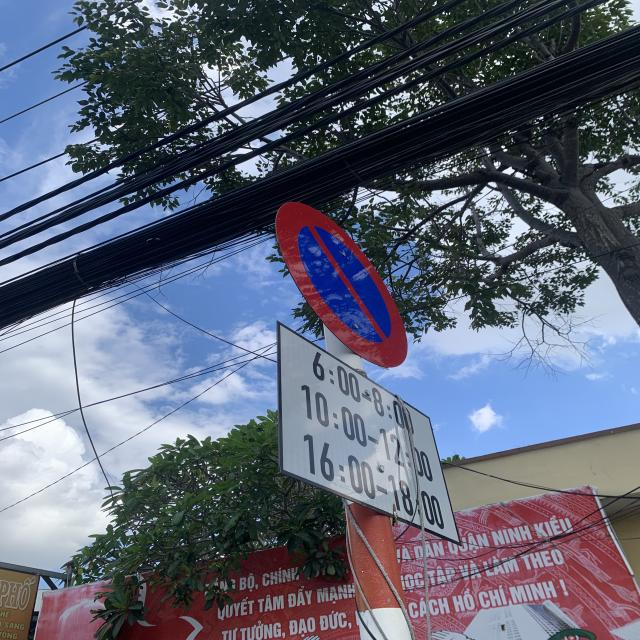Cam_Dau_Xe: (273, 200, 412, 370)
